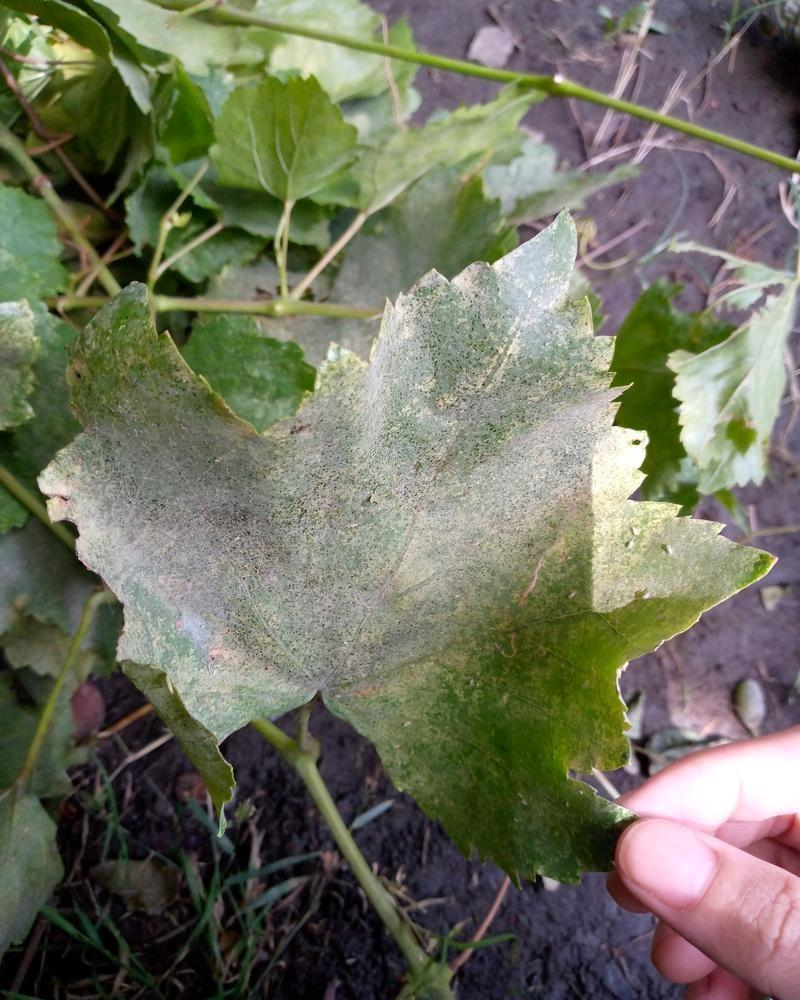Powdery-Mildew: (471, 240, 636, 559), (165, 461, 342, 695), (65, 375, 242, 583), (325, 520, 498, 726), (301, 298, 465, 503), (580, 509, 750, 617)
